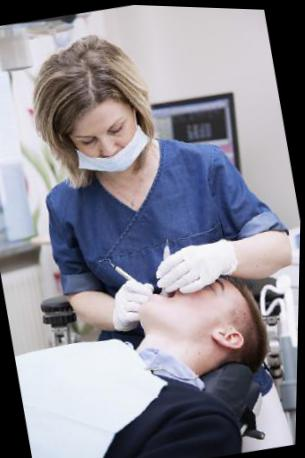NONE: (138, 262, 246, 338)
WRONG: (69, 105, 152, 183)
